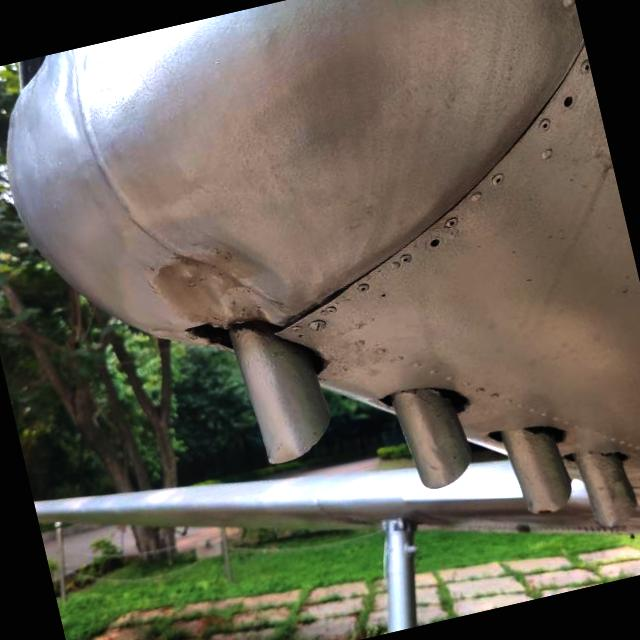dent: (120, 200, 316, 370)
